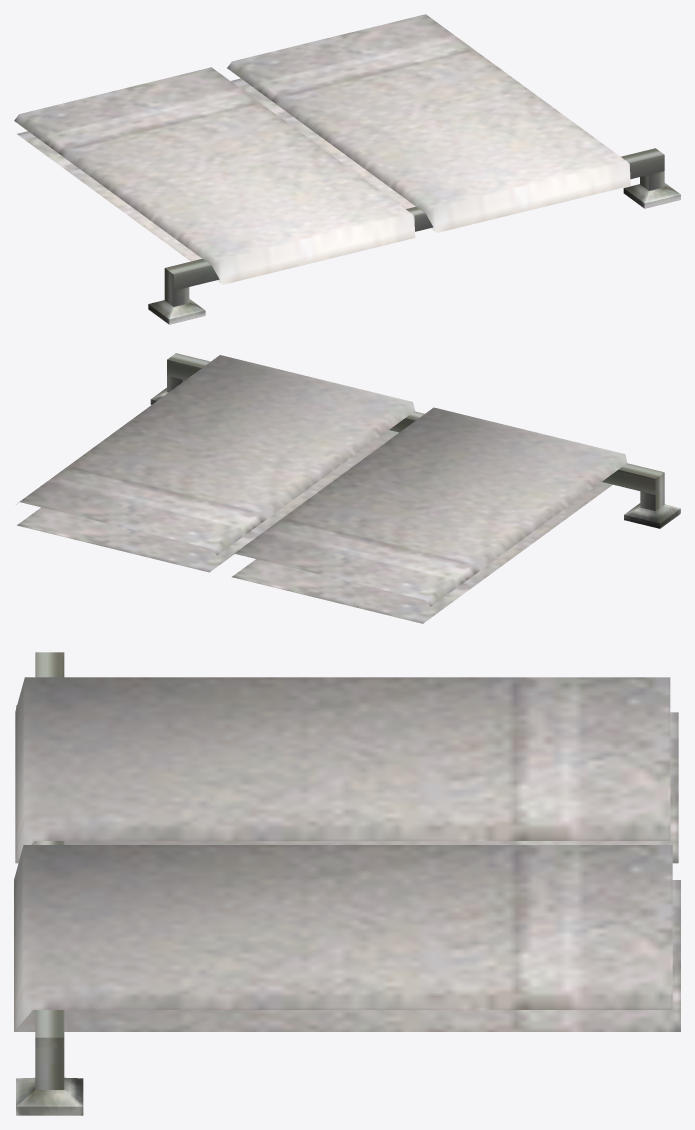
File: towel_rack3.fbx
3 renders of one model, top to bottom at view 1: azimuth 30°, elevation 25°; view 2: azimuth 150°, elevation 25°; view 3: azimuth 270°, elevation 25°, orthographic. The views are drawn at different scales.
Parts seen in each view (by area): view 1: mesh_0, mesh_2, mesh_1; view 2: mesh_0, mesh_2, mesh_1; view 3: mesh_0, mesh_2, mesh_1.
Part boxes in pixels (x1=…): mesh_0: x1=227, y1=14, x2=630, y2=232; mesh_2: x1=14, y1=67, x2=415, y2=284; mesh_1: x1=148, y1=148, x2=680, y2=324; mesh_0: x1=16, y1=355, x2=414, y2=572; mesh_2: x1=231, y1=407, x2=627, y2=623; mesh_1: x1=150, y1=353, x2=680, y2=528; mesh_0: x1=14, y1=845, x2=680, y2=1031; mesh_2: x1=15, y1=677, x2=678, y2=863; mesh_1: x1=16, y1=652, x2=83, y2=1115.
Bounding box in the file's own units: 98.75 × 9 × 69.34.
Materials: 1 (1 with a texture image).
